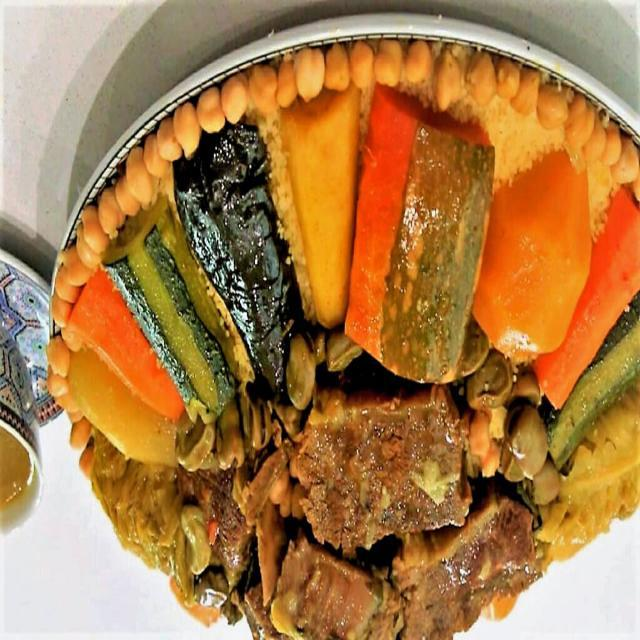Couscous: (47, 5, 640, 640)
